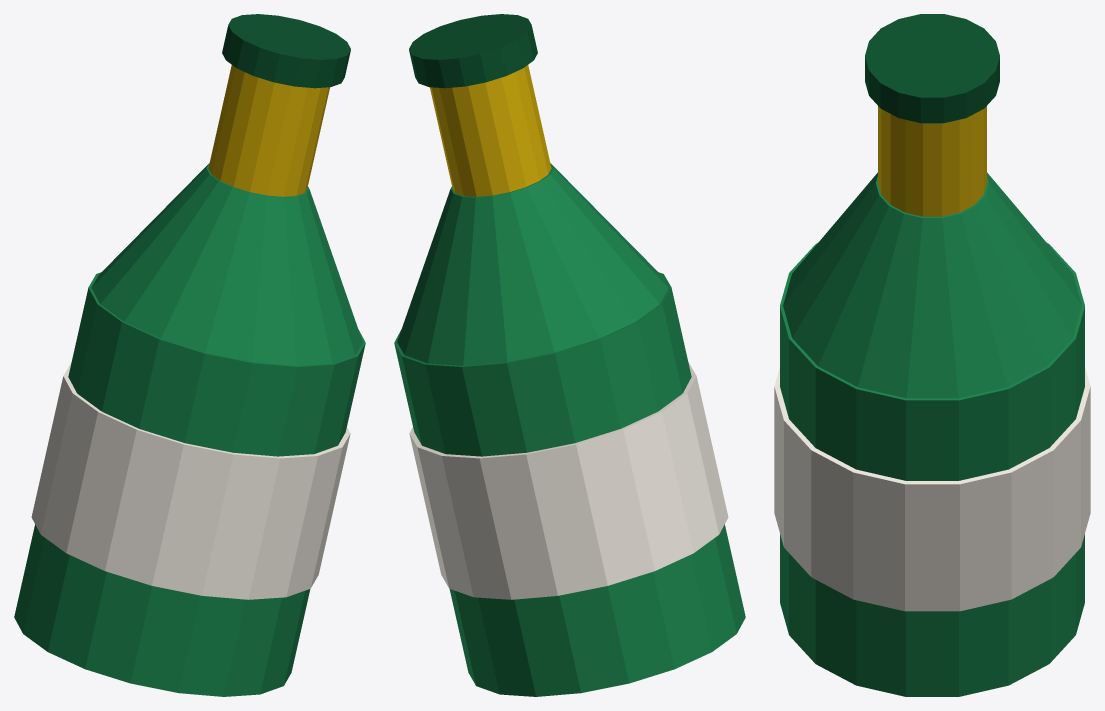
File: litter_jar.glb
The picture shows the model from 3 angles, left to right: view 1: azimuth 30°, elevation 25°; view 2: azimuth 150°, elevation 25°; view 3: azimuth 270°, elevation 25°; orthographic projection. The views are drawn at different scales.
Visible parts, largest first — view 1: litter_jar; view 2: litter_jar; view 3: litter_jar.
Part boxes in pixels (box(x1,y1,x2,y2)): litter_jar: box(14, 14, 365, 696); litter_jar: box(394, 14, 745, 696); litter_jar: box(774, 14, 1090, 696).
Bounding box in the file's own units: 0.3522 × 0.674 × 0.29.
